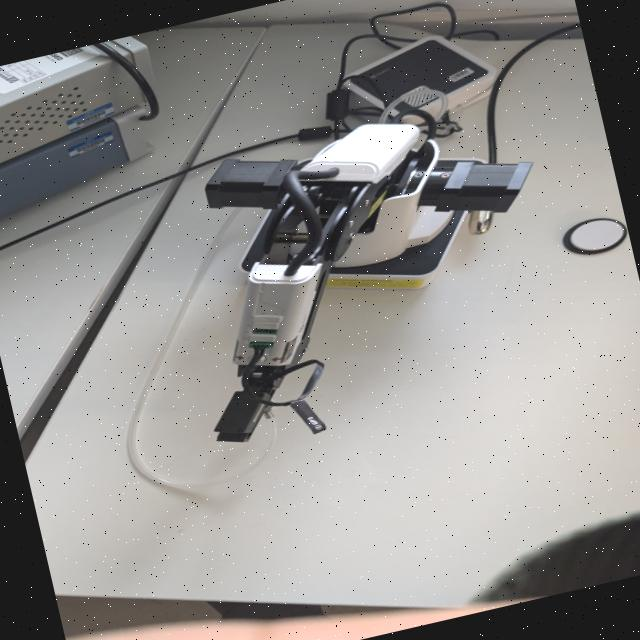Robot-end-effector-HF8z: (200, 380, 286, 452)
